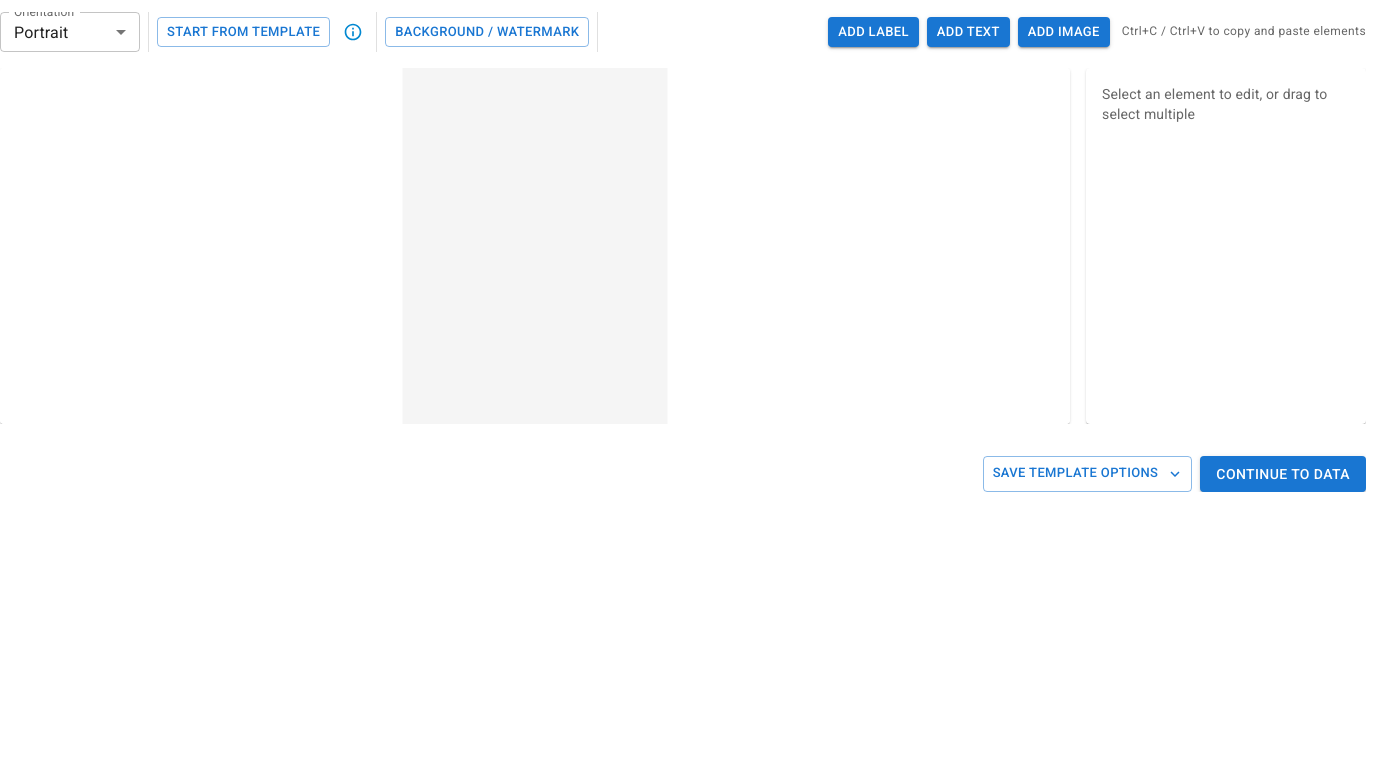
DesignStep — adding elements › Add Image adds and selects an image element
Click the button "Add Image". click: (1064, 32)
box: 1018,17 -> 1110,47
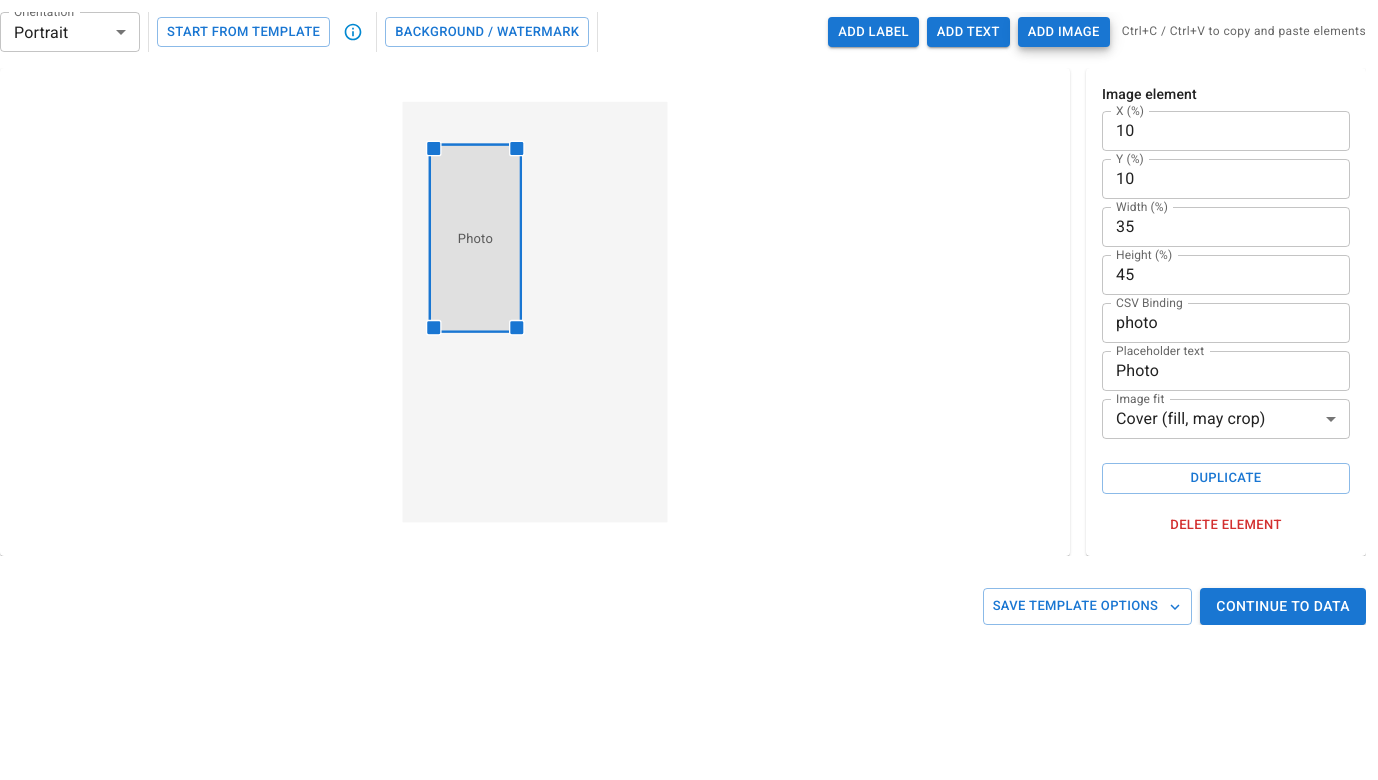
Result: the heading "Image element" is shown at 1102,86 -> 1197,102
